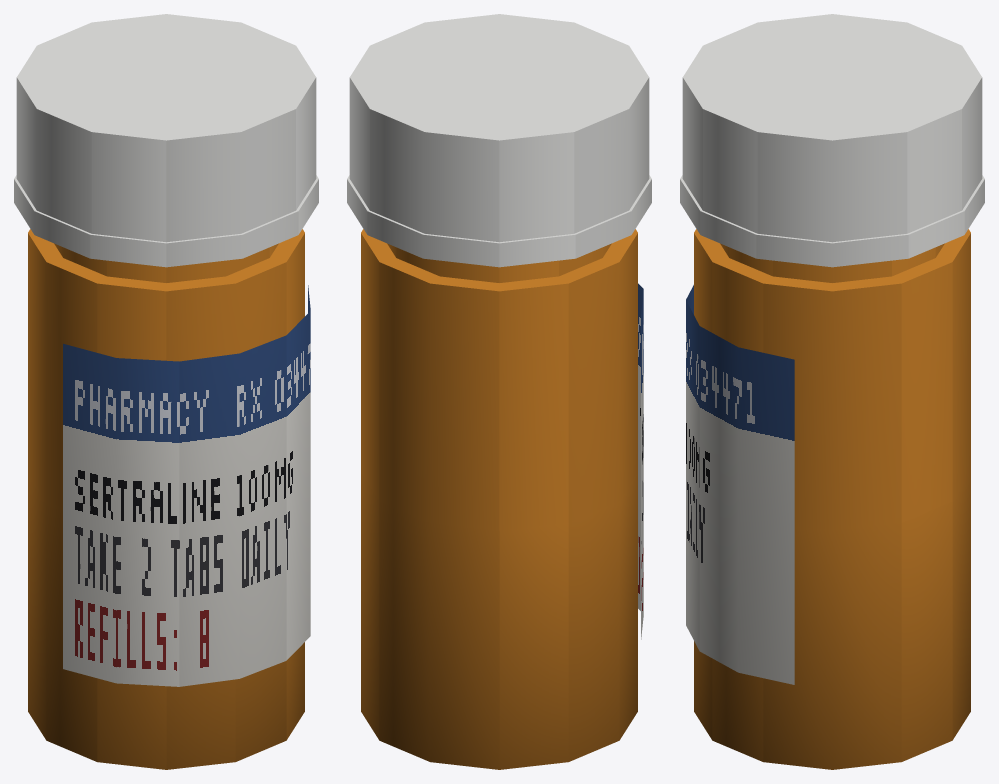
File: pill_bottle.glb
3 views of the same model, side by side, from view 1: azimuth 30°, elevation 25°; view 2: azimuth 150°, elevation 25°; view 3: azimuth 270°, elevation 25° (orthographic).
Visible parts, largest first — view 1: body, panels; view 2: body, panels; view 3: body, panels.
Boxes of the visible parts, bbox=[...] form: body: bbox=[14, 14, 318, 769]; panels: bbox=[63, 285, 310, 686]; body: bbox=[347, 14, 651, 769]; panels: bbox=[638, 283, 643, 639]; body: bbox=[680, 14, 984, 769]; panels: bbox=[686, 285, 794, 684].
Size of what is drawn, in the model's own units: 0.0462 by 0.106 by 0.0462.
3 materials, 1 textured.
